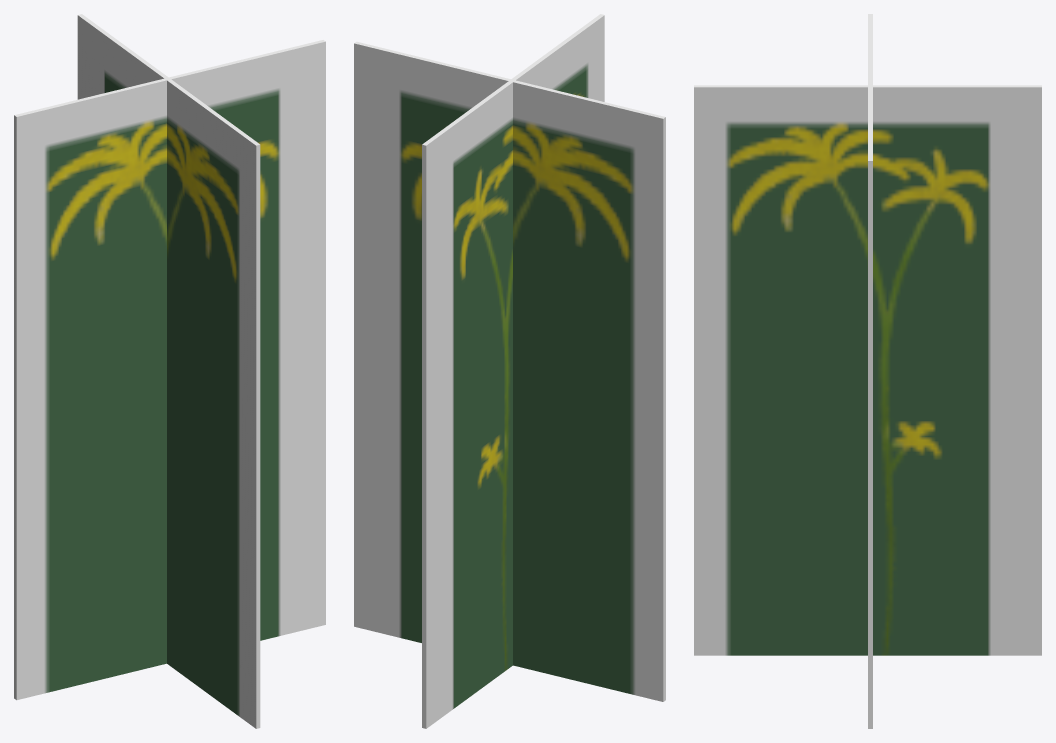
The model's file is Flower5.fbx.
3 views of the same model, side by side, from view 1: azimuth 30°, elevation 25°; view 2: azimuth 150°, elevation 25°; view 3: azimuth 270°, elevation 25° (orthographic). The views are drawn at different scales.
Parts seen in each view (by area): view 1: n_grass_diff_0_30; view 2: n_grass_diff_0_30; view 3: n_grass_diff_0_30.
Boxes of the visible parts, box(x1,y1,x2,y2) form: n_grass_diff_0_30: box(14, 14, 325, 728); n_grass_diff_0_30: box(354, 14, 665, 728); n_grass_diff_0_30: box(694, 14, 1041, 728).
Bounding box in the file's own units: 71.45 × 129 × 71.45.
